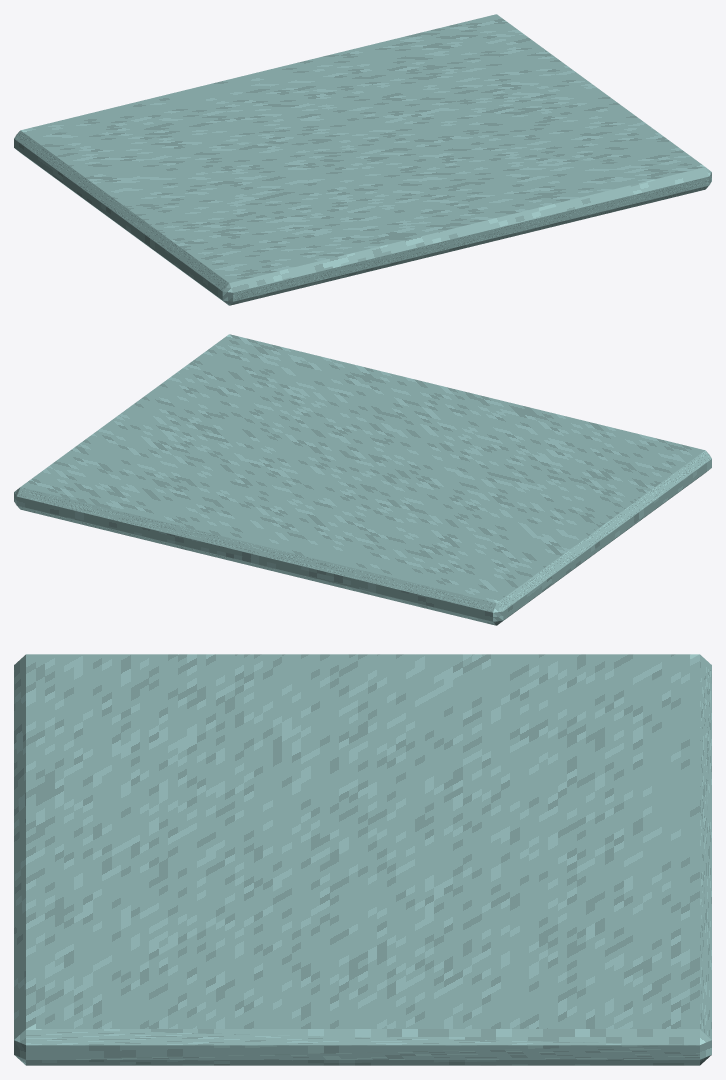
File: steel_plate.glb
3 views of the same model, one above another, from view 1: azimuth 30°, elevation 25°; view 2: azimuth 150°, elevation 25°; view 3: azimuth 270°, elevation 25° (orthographic). The views are drawn at different scales.
Visible parts, largest first — view 1: block_stock material; view 2: block_stock material; view 3: block_stock material.
Part boxes in pixels (<box>): block_stock material: <box>14,14,711,305</box>; block_stock material: <box>14,334,711,625</box>; block_stock material: <box>14,654,711,1065</box>.
Bounding box in the file's own units: 0.2711 × 0.012 × 0.2077.
Materials: 1 (1 with a texture image).
